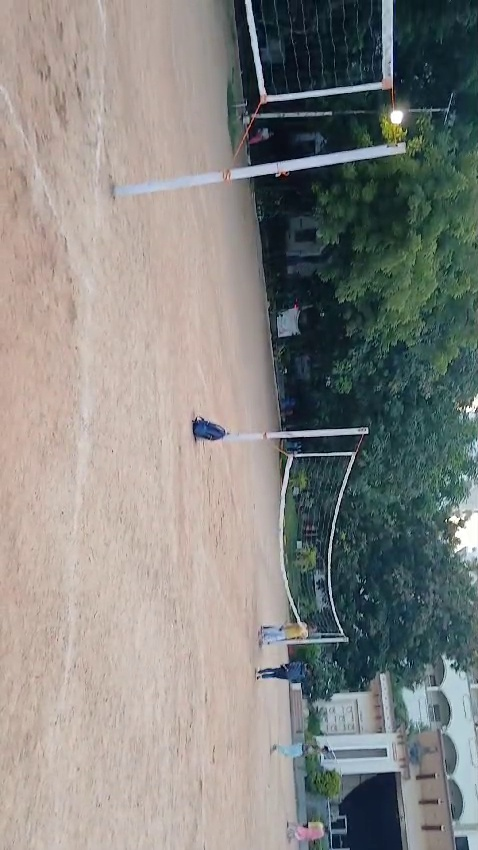bag: (187, 407, 239, 449)
